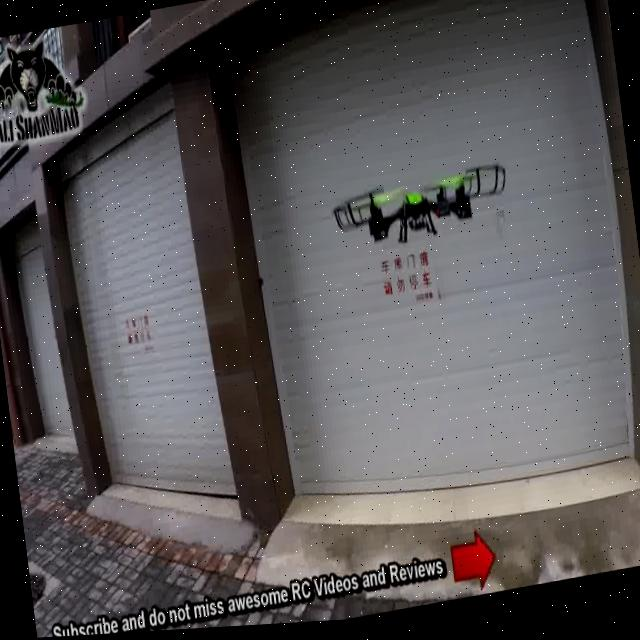drone: (331, 148, 508, 256)
